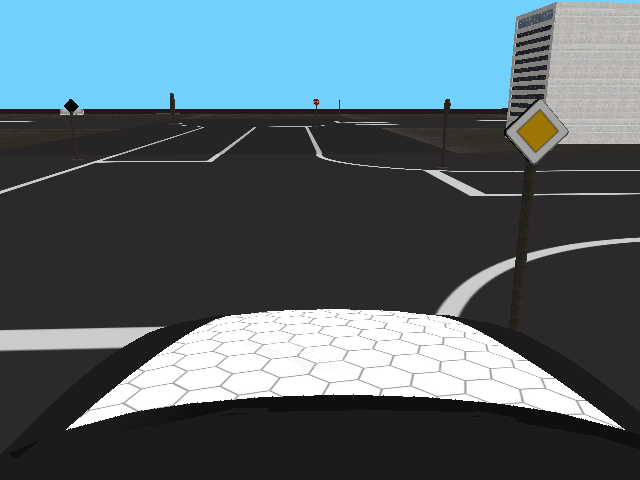priority: (505, 99, 569, 166)
